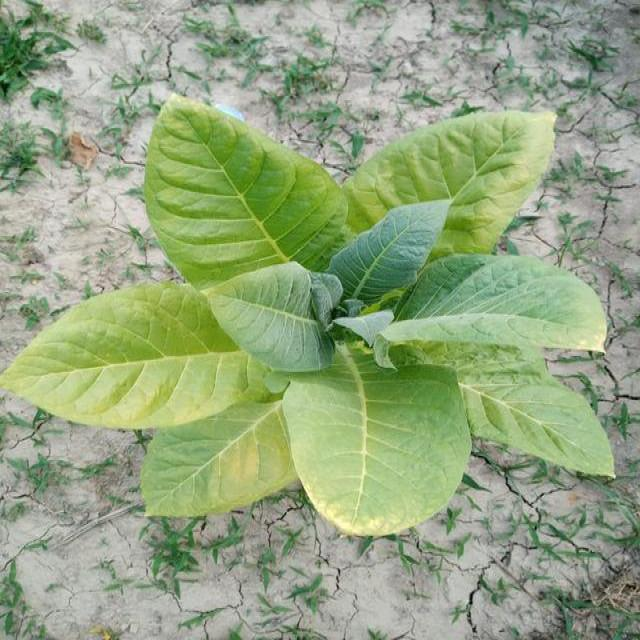crop: (0, 94, 626, 539)
